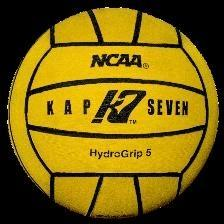Sports-Ball: (9, 5, 220, 224)
